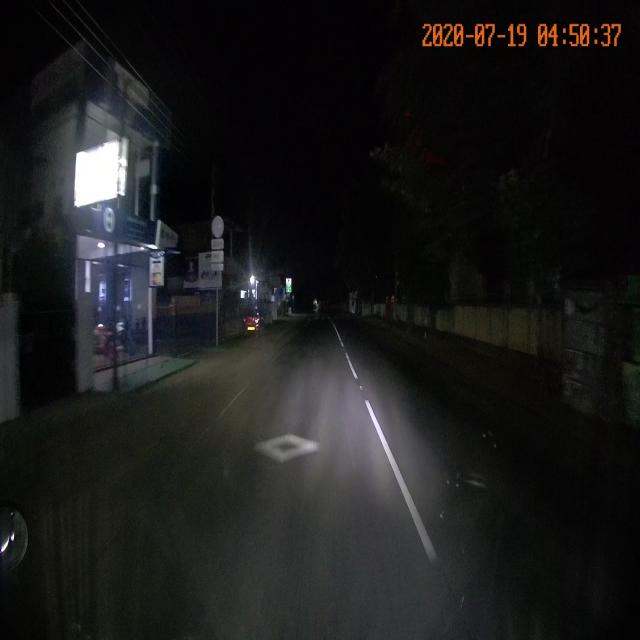Romb: (250, 434, 326, 463)
